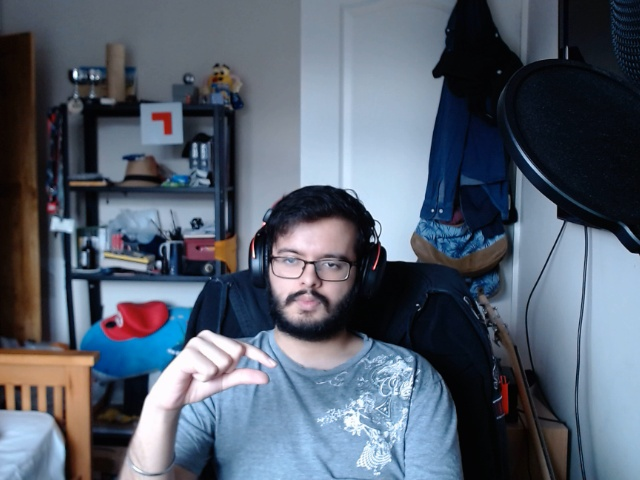Small: (146, 325, 284, 411)
